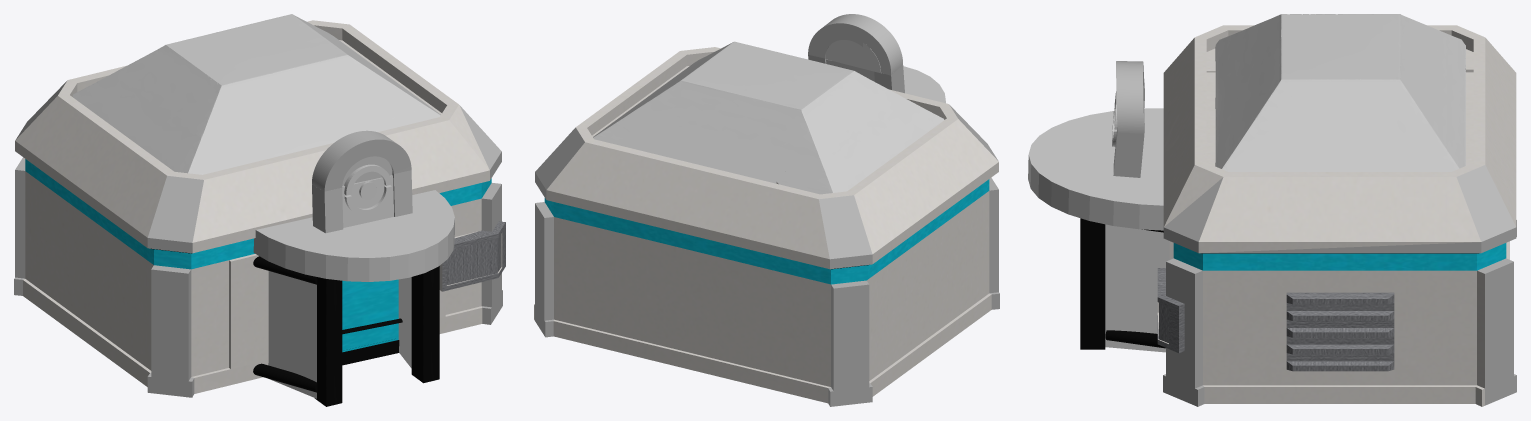
File: centropokemon.fbx
3 renders of one model, left to right at view 1: azimuth 30°, elevation 25°; view 2: azimuth 150°, elevation 25°; view 3: azimuth 270°, elevation 25°, orthographic. The views are drawn at different scales.
Visible parts, largest first — view 1: EstructuraCentroPokemon, techo, columnas, baselogo, Cubo.007, ventanas, Cubo.001, puerta, Cubo.004, Cubo.005, adorno1, Cubo.002 (+7 smaller); view 2: EstructuraCentroPokemon, techo, columnas, ventanas, Cubo.001, Letrero, baselogo, Cubo; view 3: EstructuraCentroPokemon, techo, columnas, baselogo, adorno2, Cubo.008, ventanas, Cubo.005, Cubo.001, borde.001, adorno1, Cilindro.004.
Boxes of the visible parts, x1=… form: EstructuraCentroPokemon: x1=15, y1=20, x2=502, y2=393; techo: x1=72, y1=14, x2=440, y2=174; columnas: x1=14, y1=81, x2=502, y2=397; baselogo: x1=253, y1=190, x2=454, y2=281; Cubo.007: x1=268, y1=271, x2=316, y2=398; ventanas: x1=25, y1=159, x2=491, y2=269; Cubo.001: x1=312, y1=130, x2=412, y2=216; puerta: x1=342, y1=279, x2=398, y2=352; Cubo.004: x1=314, y1=277, x2=342, y2=406; Cubo.005: x1=411, y1=266, x2=439, y2=383; adorno1: x1=442, y1=221, x2=505, y2=291; Cubo.002: x1=342, y1=175, x2=393, y2=227; EstructuraCentroPokemon: x1=534, y1=47, x2=998, y2=403; techo: x1=593, y1=41, x2=944, y2=194; columnas: x1=535, y1=105, x2=999, y2=406; ventanas: x1=544, y1=179, x2=989, y2=284; Cubo.001: x1=808, y1=14, x2=902, y2=75; Letrero: x1=825, y1=40, x2=881, y2=73; baselogo: x1=903, y1=66, x2=945, y2=103; Cubo: x1=874, y1=65, x2=904, y2=93; EstructuraCentroPokemon: x1=1157, y1=25, x2=1516, y2=406; techo: x1=1215, y1=14, x2=1465, y2=171; columnas: x1=1163, y1=165, x2=1516, y2=406; baselogo: x1=1028, y1=108, x2=1163, y2=230; adorno2: x1=1286, y1=292, x2=1394, y2=371; Cubo.008: x1=1105, y1=224, x2=1169, y2=352; ventanas: x1=1173, y1=243, x2=1506, y2=270; Cubo.005: x1=1080, y1=218, x2=1105, y2=349; Cubo.001: x1=1113, y1=61, x2=1144, y2=177; borde.001: x1=1202, y1=242, x2=1481, y2=253; adorno1: x1=1157, y1=268, x2=1184, y2=353; Cilindro.004: x1=1105, y1=330, x2=1165, y2=348.
Size of the model in its own units: 1648 by 1128 by 1839.
